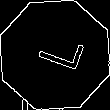L_W: (26, 32, 84, 78)
